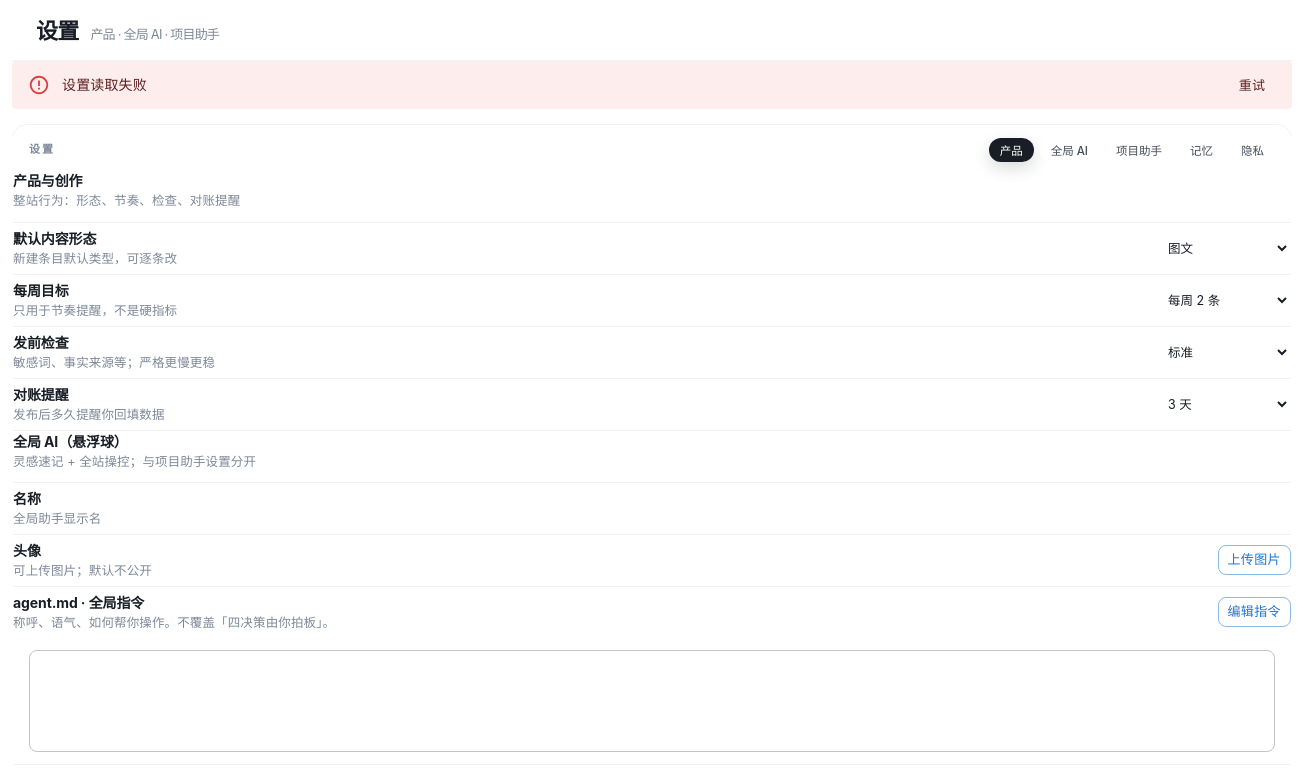
Scenario: SettingsPage › explains that saving is blocked until settings load
Check: the message shows "设置读取失败", box [62,76,147,92]
Select "视频 / vlog" in the dropdown named "默认内容形态": coordinates (1221, 248) [1151,232,1291,264]
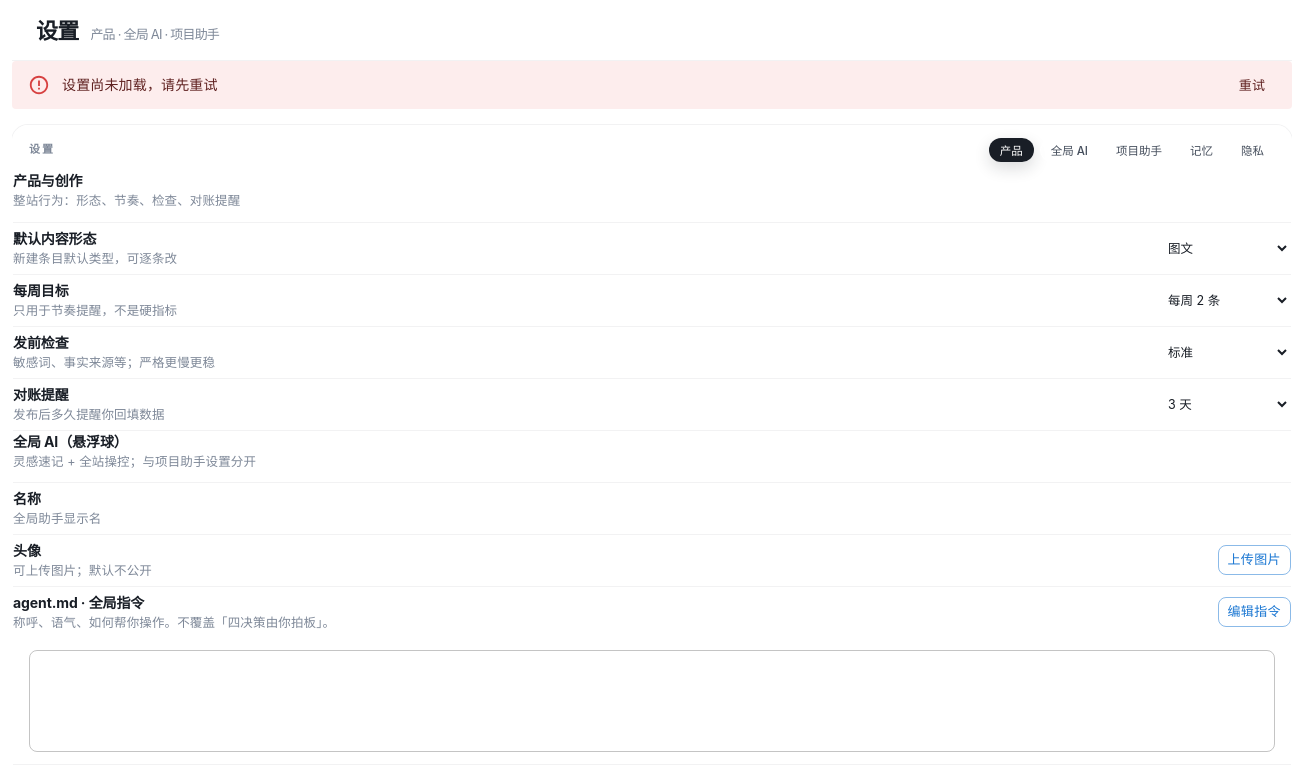
Check: the button "重试" is shown, box [1220,70,1284,101]
Check: the message shows "设置尚未加载，请先重试", box [62,76,218,92]
